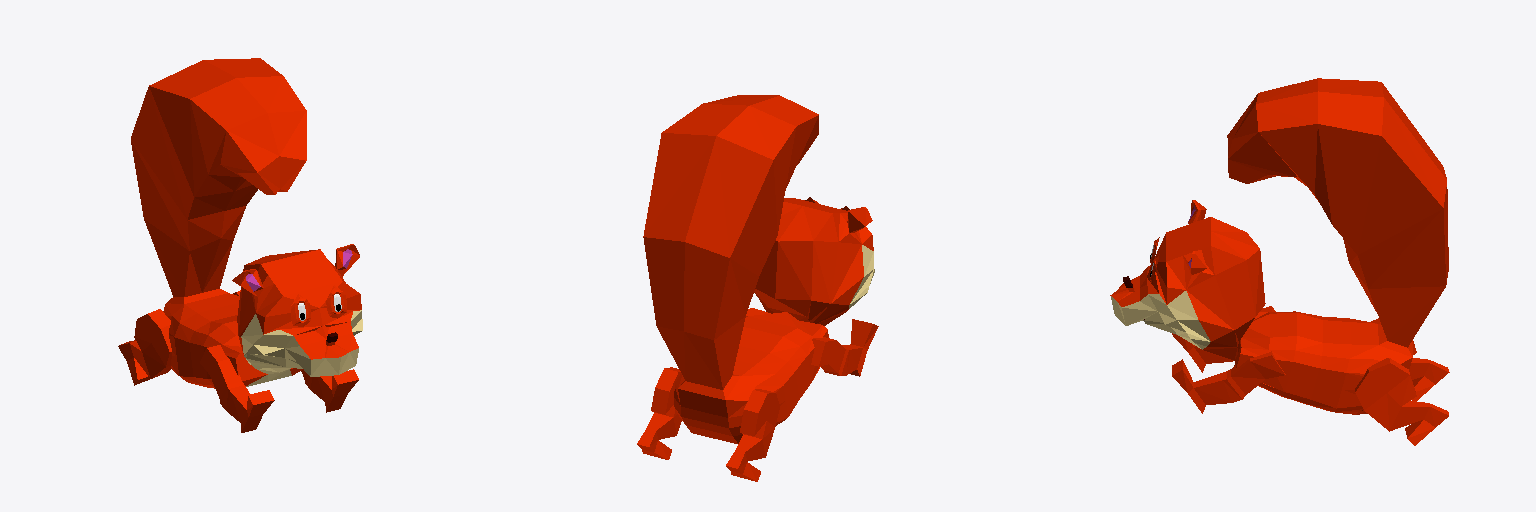
Rendered from swr.obj.
3 renders of one model, left to right at view 1: azimuth 30°, elevation 25°; view 2: azimuth 150°, elevation 25°; view 3: azimuth 270°, elevation 25°, orthographic.
Visible parts, largest first — view 1: Cube_Material, Cube_Material.0012, Cube.002_Material.006, Cube.004_Material.007, Cube.001_Material.0062; view 2: Cube_Material, Cube.004_Material.007, Cube.003_Material.0072, Cube.002_Material.006, Cube_Material.0012; view 3: Cube_Material, Cube.003_Material.0072, Cube.001_Material.0062, Cube_Material.0012, Cube.004_Material.007, Cube.002_Material.006.
Part boxes in pixels (left/top/right/bottom): Cube_Material: left=131, top=58, right=361, bottom=388; Cube_Material.0012: left=241, top=310, right=362, bottom=386; Cube.002_Material.006: left=200, top=345, right=274, bottom=432; Cube.004_Material.007: left=118, top=309, right=171, bottom=385; Cube.001_Material.0062: left=301, top=369, right=358, bottom=412; Cube_Material: left=643, top=95, right=873, bottom=443; Cube.004_Material.007: left=726, top=389, right=779, bottom=481; Cube.003_Material.0072: left=637, top=367, right=681, bottom=459; Cube.002_Material.006: left=811, top=319, right=878, bottom=376; Cube_Material.0012: left=849, top=245, right=874, bottom=308; Cube_Material: left=1110, top=78, right=1448, bottom=414; Cube.003_Material.0072: left=1355, top=358, right=1448, bottom=445; Cube.001_Material.0062: left=1172, top=351, right=1285, bottom=413; Cube_Material.0012: left=1111, top=291, right=1210, bottom=349; Cube.004_Material.007: left=1371, top=318, right=1449, bottom=400; Cube.002_Material.006: left=1172, top=306, right=1275, bottom=372.
Size of the model in its own units: 2.6 by 6.68 by 6.25.